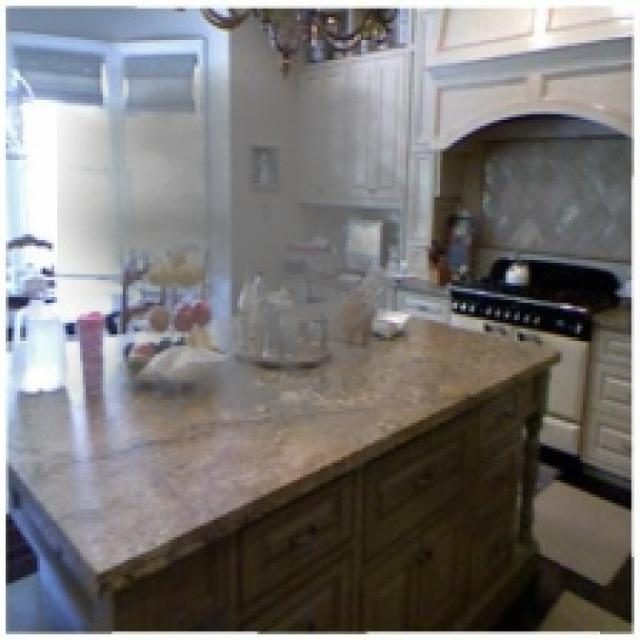smoke: (57, 60, 452, 446)
